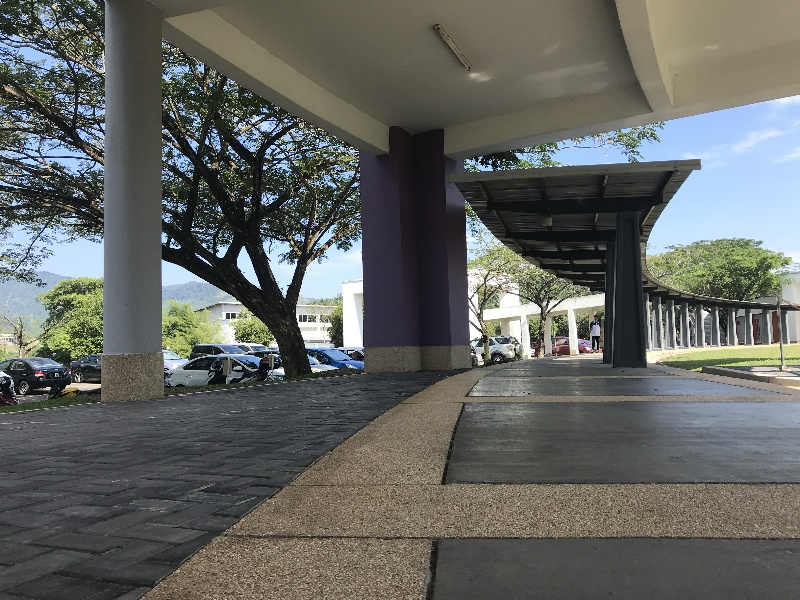Block D corridor: (10, 9, 795, 592)
pillar: (79, 6, 185, 406), (349, 127, 485, 371), (600, 212, 661, 379)
